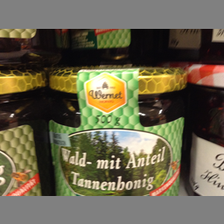honey: (45, 67, 184, 198)
